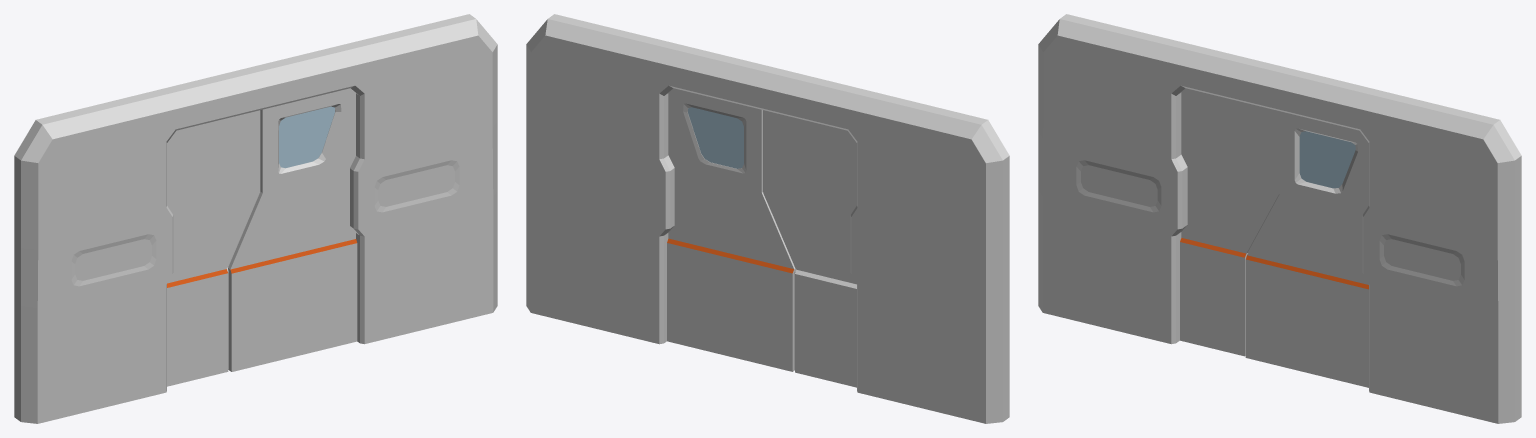
File: DOOR_WIDE.fbx
The picture shows the model from 3 angles, left to right: view 1: azimuth 30°, elevation 25°; view 2: azimuth 150°, elevation 25°; view 3: azimuth 330°, elevation 25°; orthographic projection.
Visible parts, largest first — view 1: Cube.128, Cube.129, Cube.130, Cube.131; view 2: Cube.128, Cube.129, Cube.130, Cube.131; view 3: Cube.128, Cube.129, Cube.130, Cube.131, Cube.132.
Boxes of the visible parts, x1=… form: Cube.128: x1=14, y1=14, x2=497, y2=423; Cube.129: x1=228, y1=88, x2=357, y2=371; Cube.130: x1=167, y1=110, x2=260, y2=386; Cube.131: x1=348, y1=230, x2=357, y2=329; Cube.128: x1=526, y1=14, x2=1009, y2=423; Cube.129: x1=667, y1=88, x2=795, y2=371; Cube.130: x1=763, y1=110, x2=856, y2=387; Cube.131: x1=667, y1=229, x2=676, y2=343; Cube.128: x1=1038, y1=14, x2=1521, y2=423; Cube.129: x1=1245, y1=111, x2=1368, y2=386; Cube.130: x1=1180, y1=88, x2=1279, y2=356; Cube.131: x1=1363, y1=280, x2=1368, y2=387; Cube.132: x1=1181, y1=111, x2=1190, y2=176.
Bounding box in the file's own units: 615 × 360 × 42.44.
